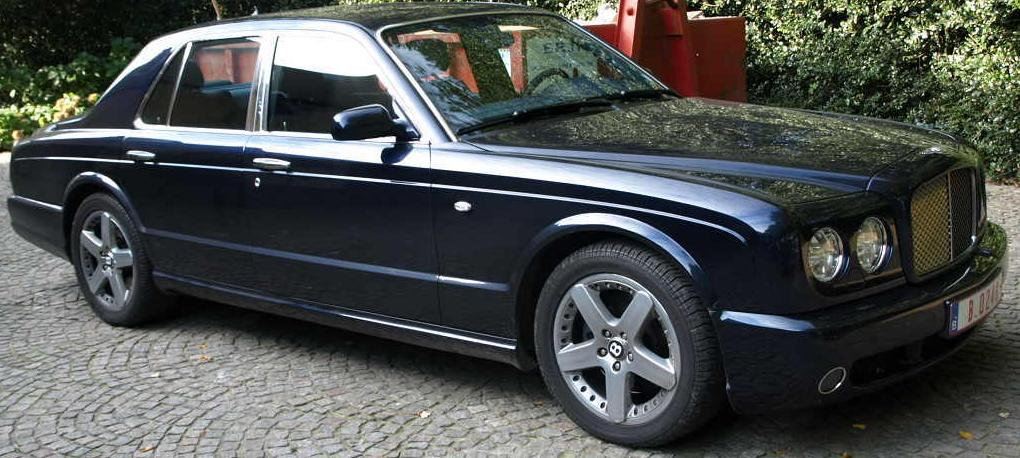front_view: (767, 155, 1012, 403)
headlight: (792, 213, 899, 287)
side_glass: (136, 34, 426, 144)
